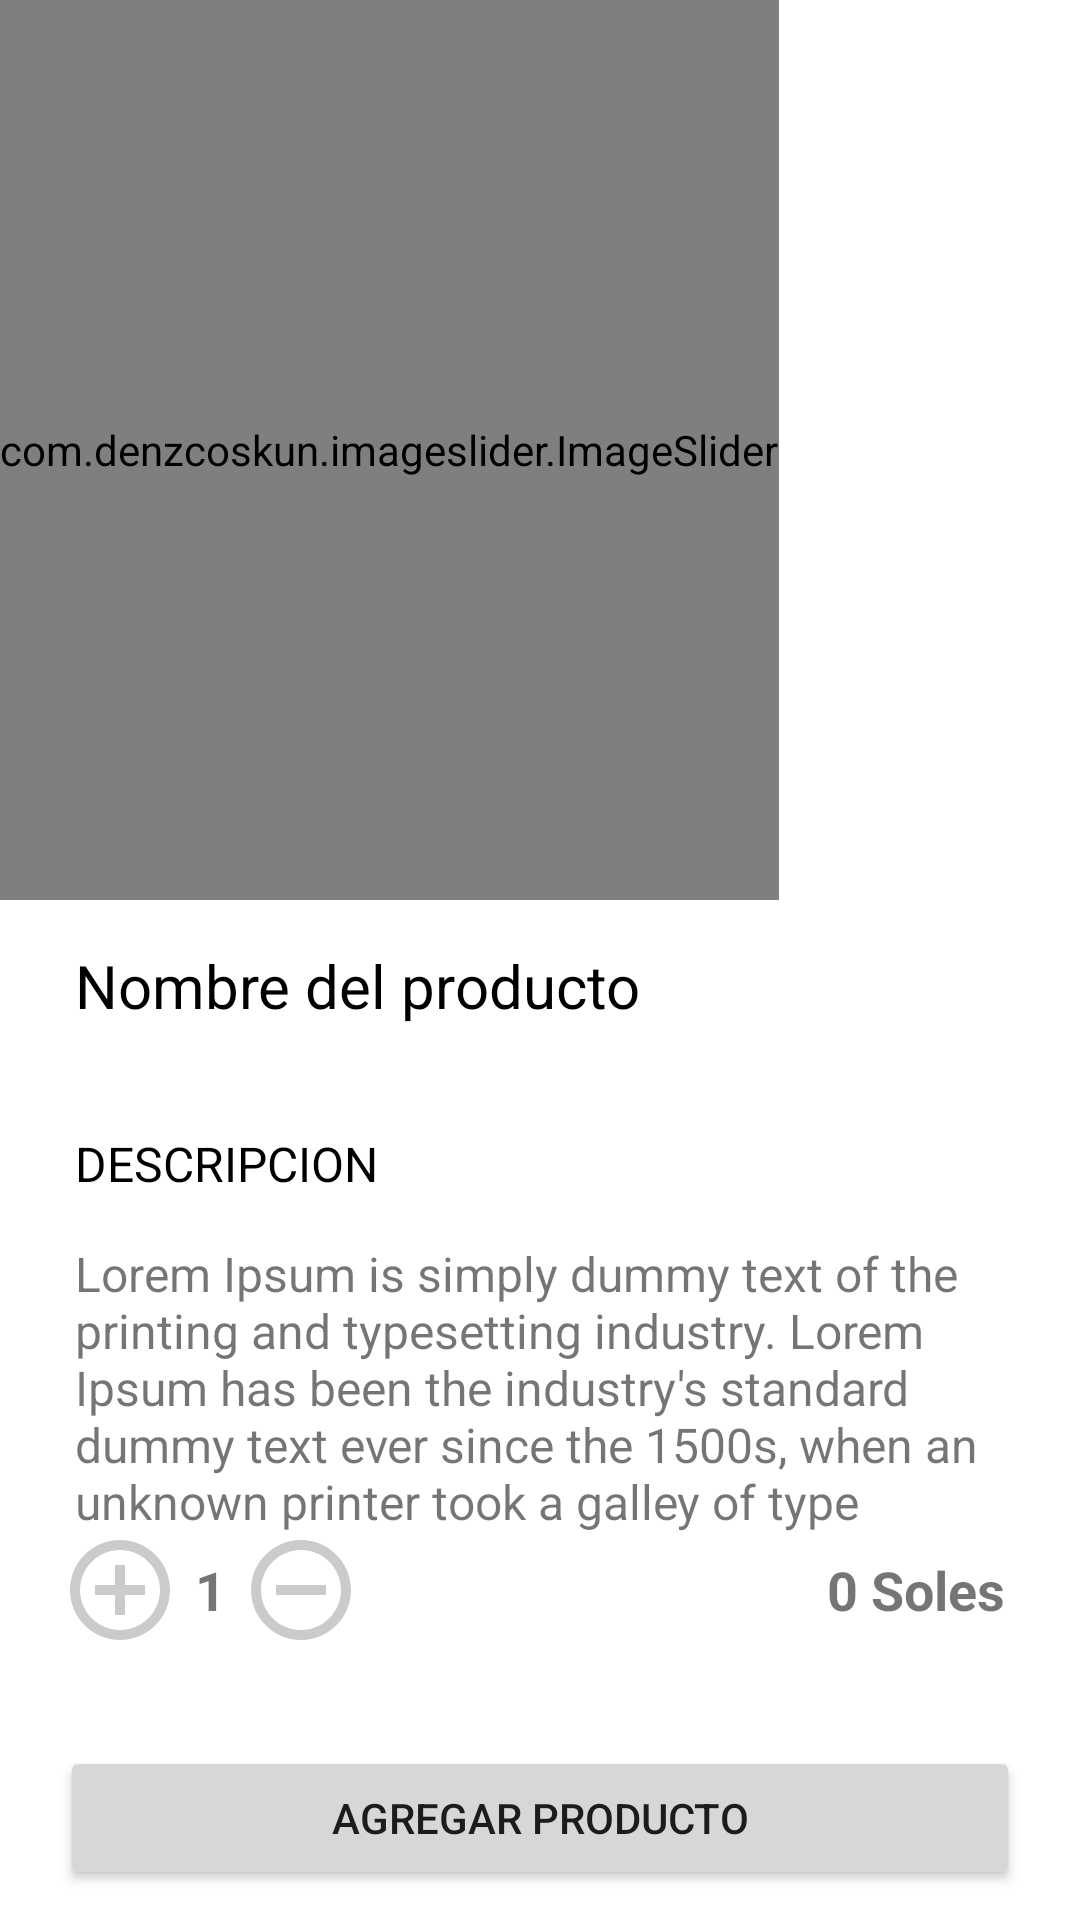

Screen size 1080×1920. Icon name, then its box in pixels as (x1, y1, x2, y2):
add: (70, 1540, 170, 1640)
remove: (251, 1540, 351, 1640)
